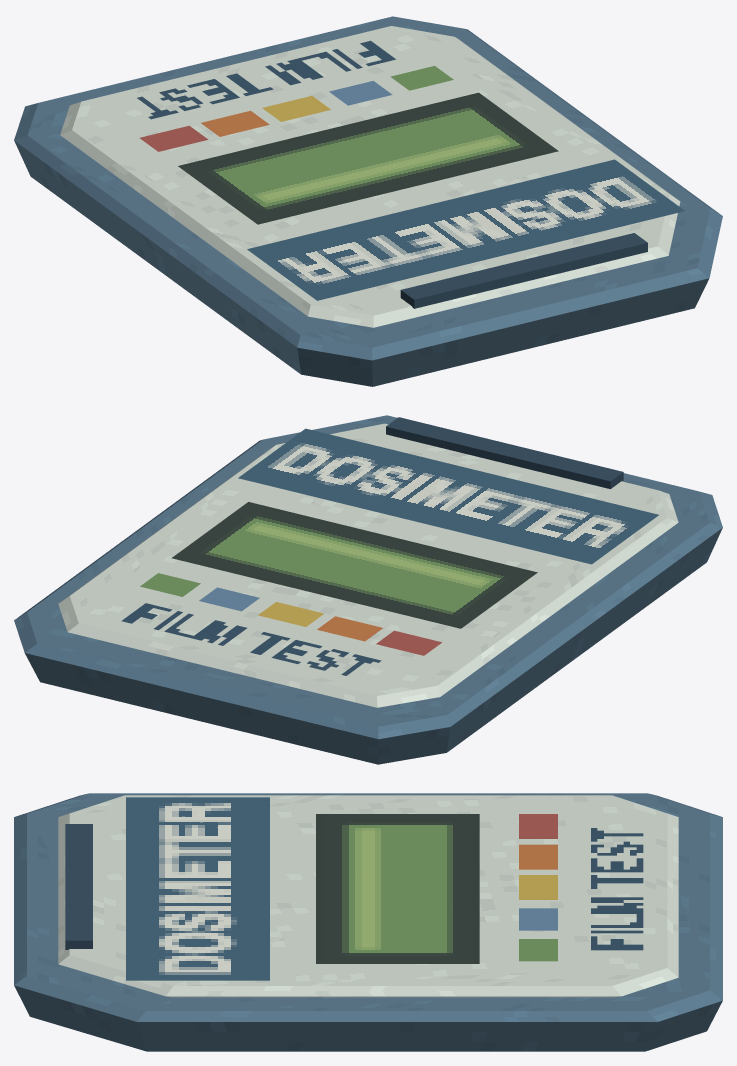
File: rad_badge.glb
3 views of the same model, one above another, from view 1: azimuth 30°, elevation 25°; view 2: azimuth 150°, elevation 25°; view 3: azimuth 270°, elevation 25° (orthographic). The views are drawn at different scales.
Parts seen in each view (by area): view 1: block_original printed emblem, block_recessed face, block_beveled badge body, block_lapel clip slot; view 2: block_recessed face, block_original printed emblem, block_beveled badge body, block_lapel clip slot; view 3: block_recessed face, block_original printed emblem, block_beveled badge body, block_lapel clip slot.
Part boxes in pixels (x1,y1,x2,y2): block_original printed emblem: (137,40,684,300); block_recessed face: (60,26,680,327); block_beveled badge body: (14,16,722,386); block_lapel clip slot: (400,233,647,308); block_recessed face: (58,423,678,707); block_original printed emblem: (121,428,658,675); block_beveled badge body: (14,415,722,764); block_lapel clip slot: (386,417,623,488); block_recessed face: (58,795,678,997); block_original printed emblem: (126,797,643,980); block_beveled badge body: (14,793,722,1051); block_lapel clip slot: (65,824,92,949).
Size of the model in its own units: 0.04 by 0.00677 by 0.0529.
Materials: 2 (2 with a texture image).
